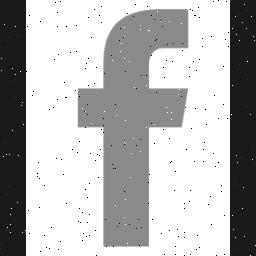f: (70, 2, 194, 252)
